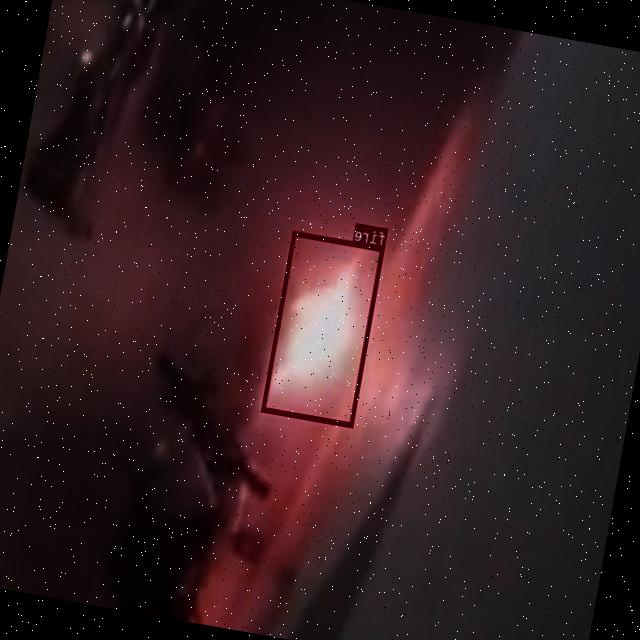fire: (262, 230, 385, 426)
